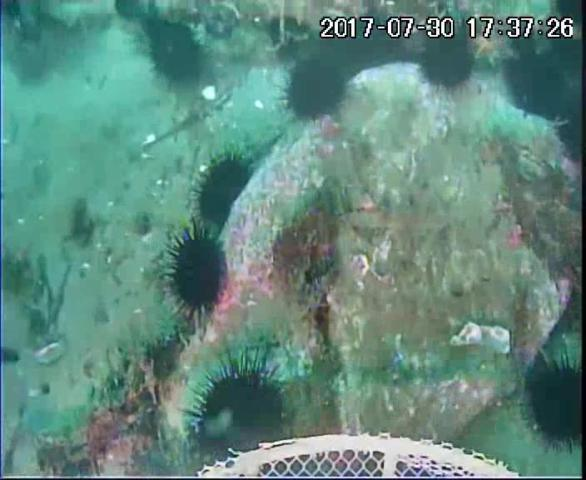echinus: (191, 365, 288, 449), (521, 355, 586, 456), (506, 52, 579, 126), (167, 226, 226, 317), (196, 154, 252, 227), (149, 21, 209, 88), (331, 22, 404, 75), (287, 56, 346, 121), (417, 33, 479, 92), (555, 2, 586, 29)
